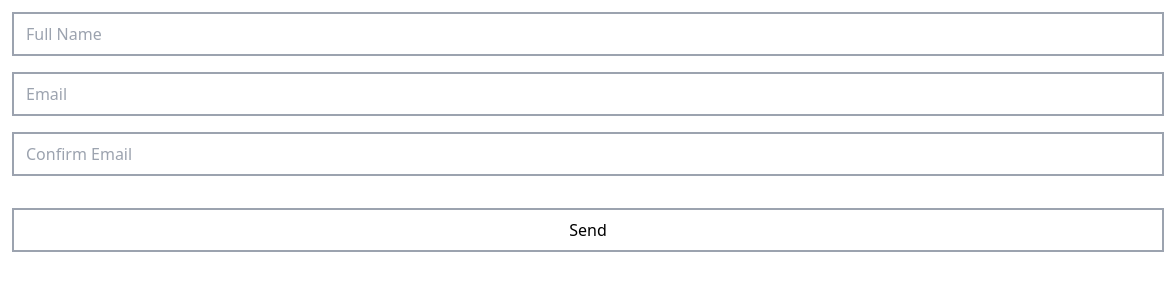
Test: RequestInviteForm component › should display confirmation email error when value is empty
Type "aaa" into the field with test id "input-name" at [588, 34], box 12,12 -> 1164,56
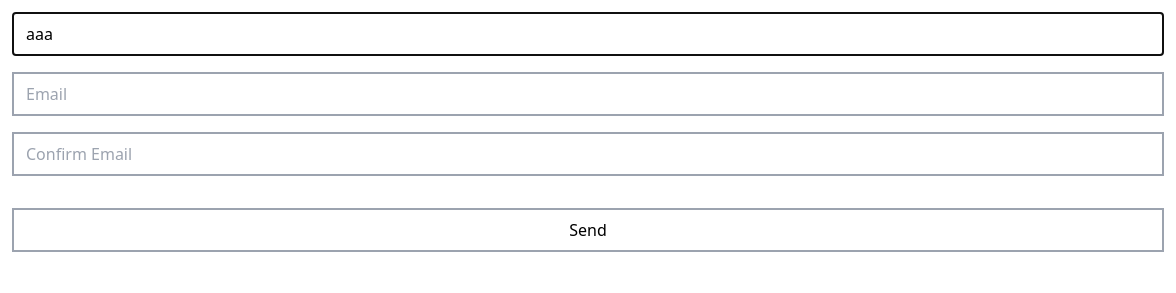
Type "a@a.com" into the field with test id "input-email" at [588, 94], box 12,72 -> 1164,116
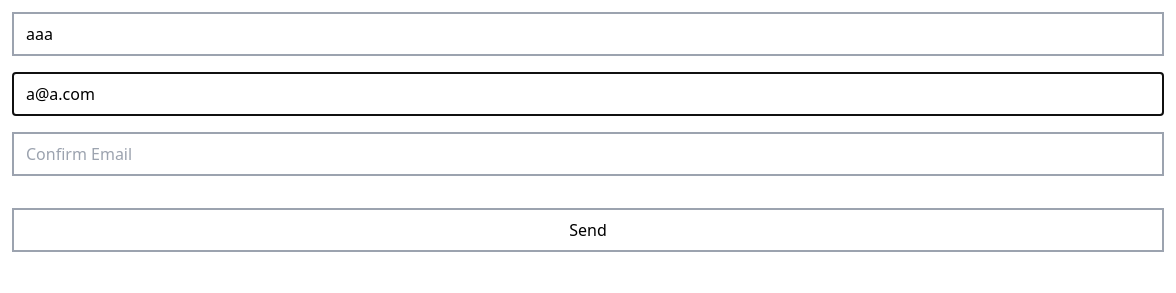
Click the button with test id "submit-button" at [588, 230], box 12,208 -> 1164,252
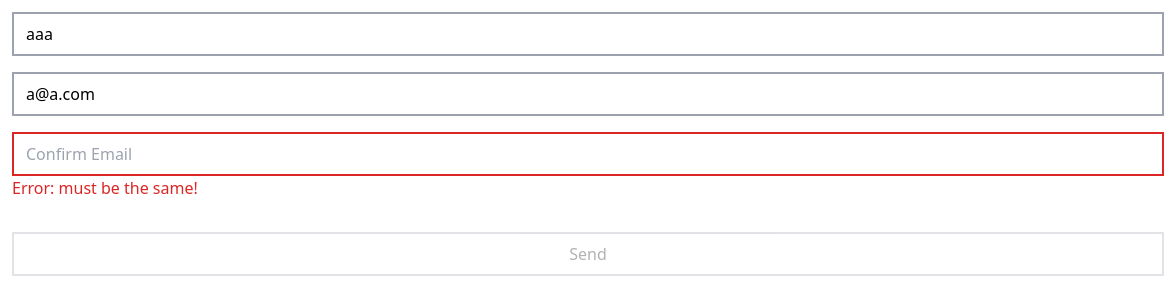
Now the text "Error: must be the same!" is shown, box 12,177 -> 198,199
